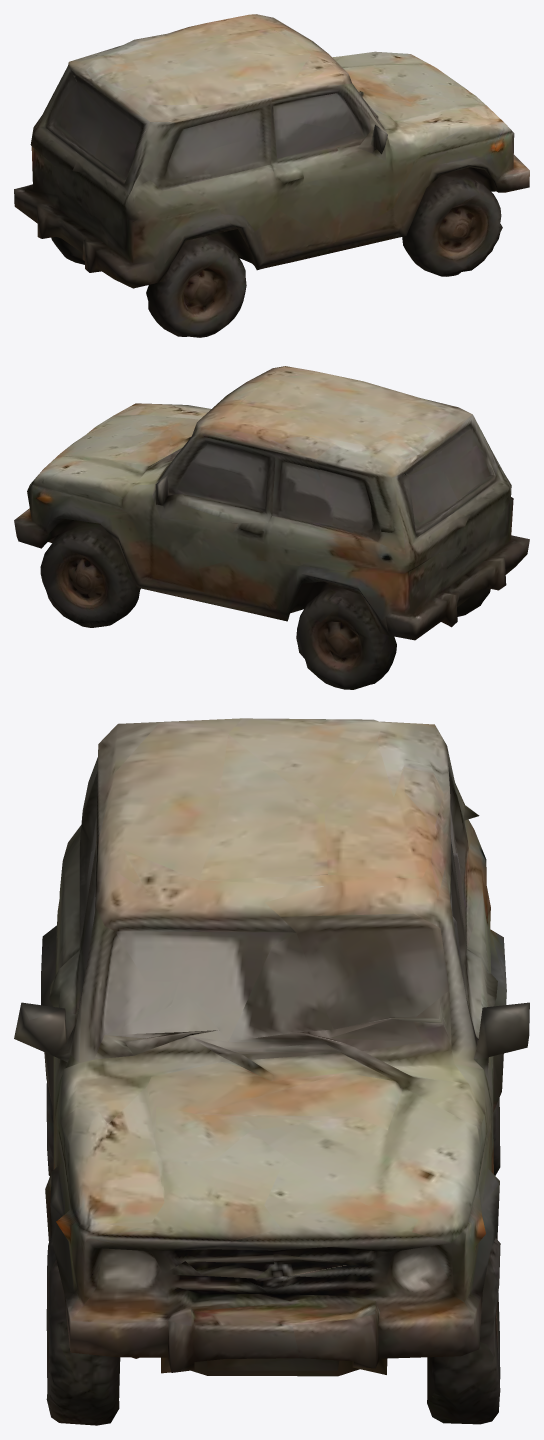
Rendered from e_niva.glb.
3 views of the same model, one above another, from view 1: azimuth 30°, elevation 25°; view 2: azimuth 150°, elevation 25°; view 3: azimuth 270°, elevation 25° (orthographic). The views are drawn at different scales.
Parts seen in each view (by area): view 1: tripo_node_b9124358-ff9e-4bdd-8abb-f32401b619be; view 2: tripo_node_b9124358-ff9e-4bdd-8abb-f32401b619be; view 3: tripo_node_b9124358-ff9e-4bdd-8abb-f32401b619be.
Part boxes in pixels (x1,y1,x2,y2): tripo_node_b9124358-ff9e-4bdd-8abb-f32401b619be: (14, 14, 529, 337); tripo_node_b9124358-ff9e-4bdd-8abb-f32401b619be: (14, 366, 529, 689); tripo_node_b9124358-ff9e-4bdd-8abb-f32401b619be: (14, 718, 529, 1425).
Bounding box in the file's own units: 1 × 0.5105 × 0.5445.
1 material, 1 textured.
